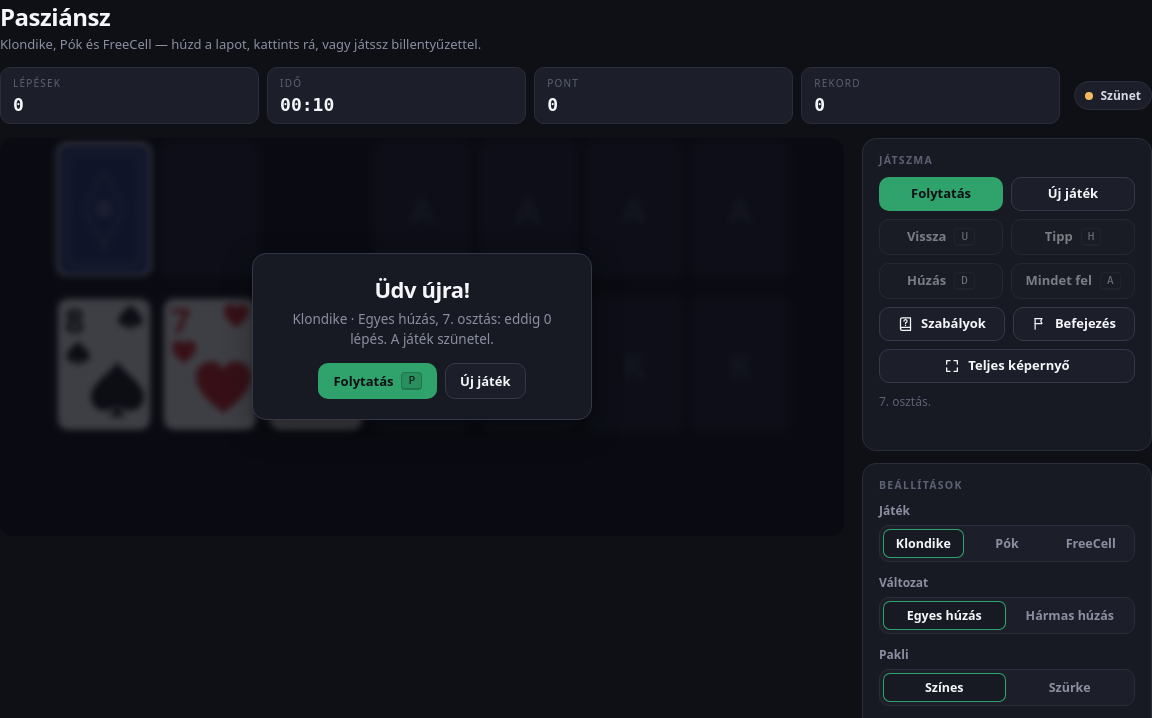
Test: Solitaire finish early › Cancel changes nothing, and the clock stands still while the confirm is open
The image size is (1152, 718).
Press p
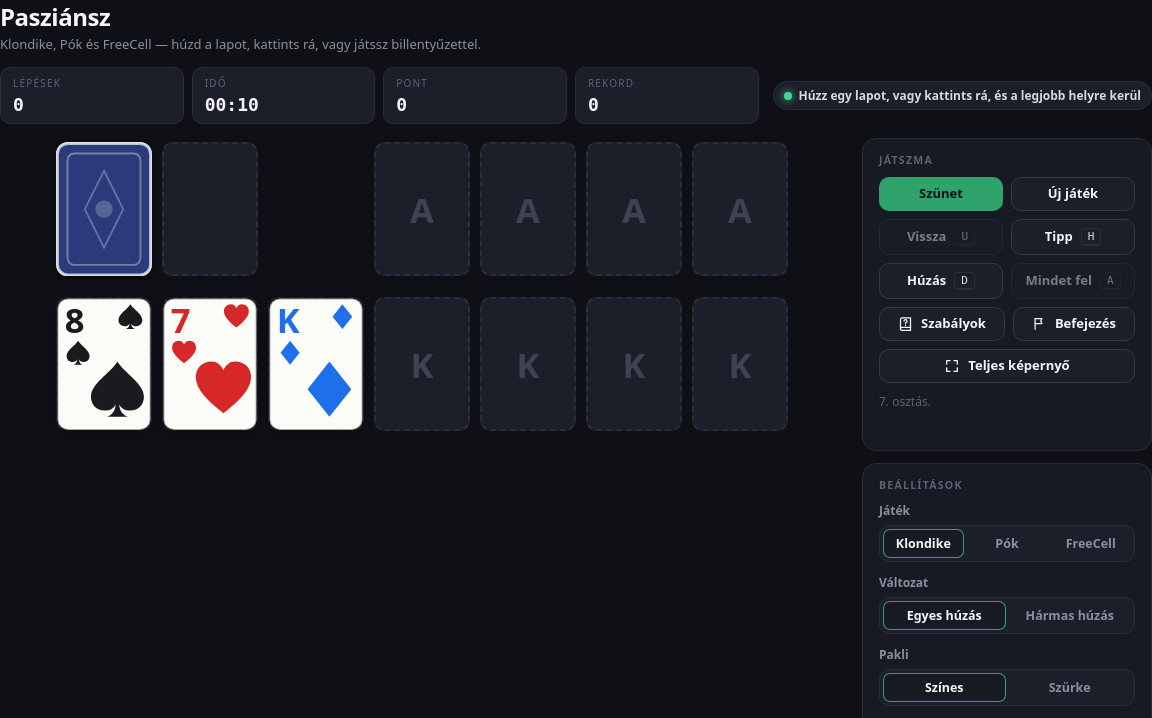
Check: the dialog is gone
Press the mouse on the element showing "7": (210, 364) [162,297,258,432]
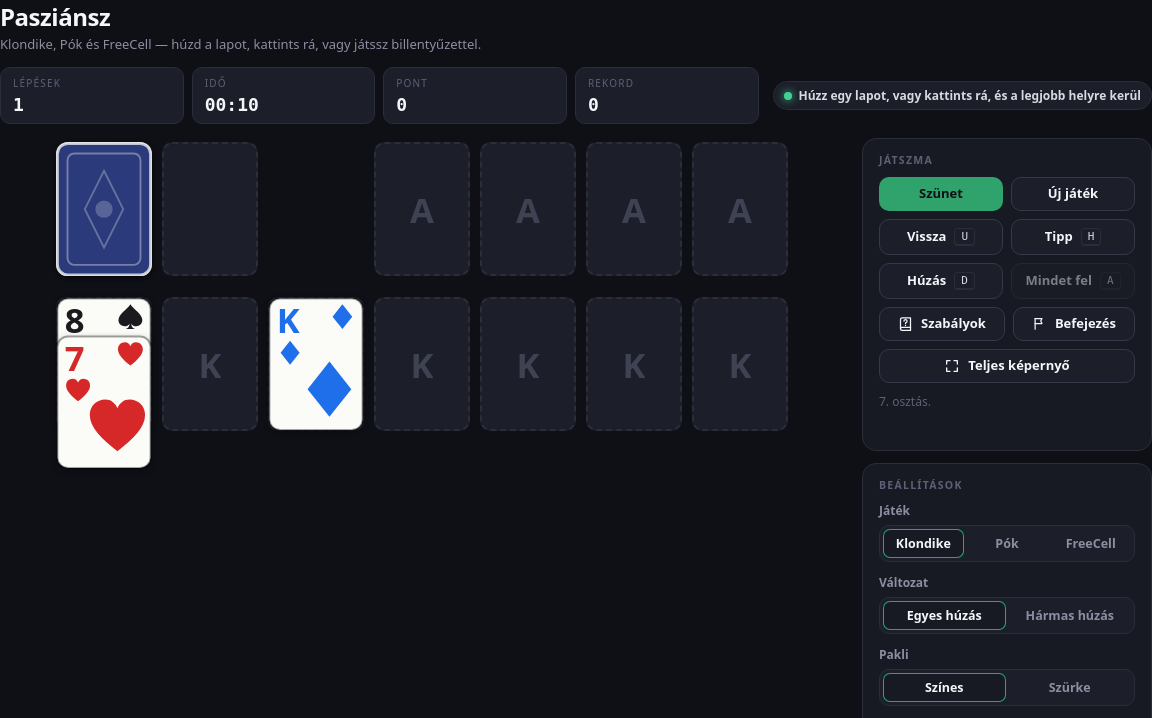
Click the button "Befejezés": (1074, 324) [1013,307,1135,341]
Wait 5000 ms
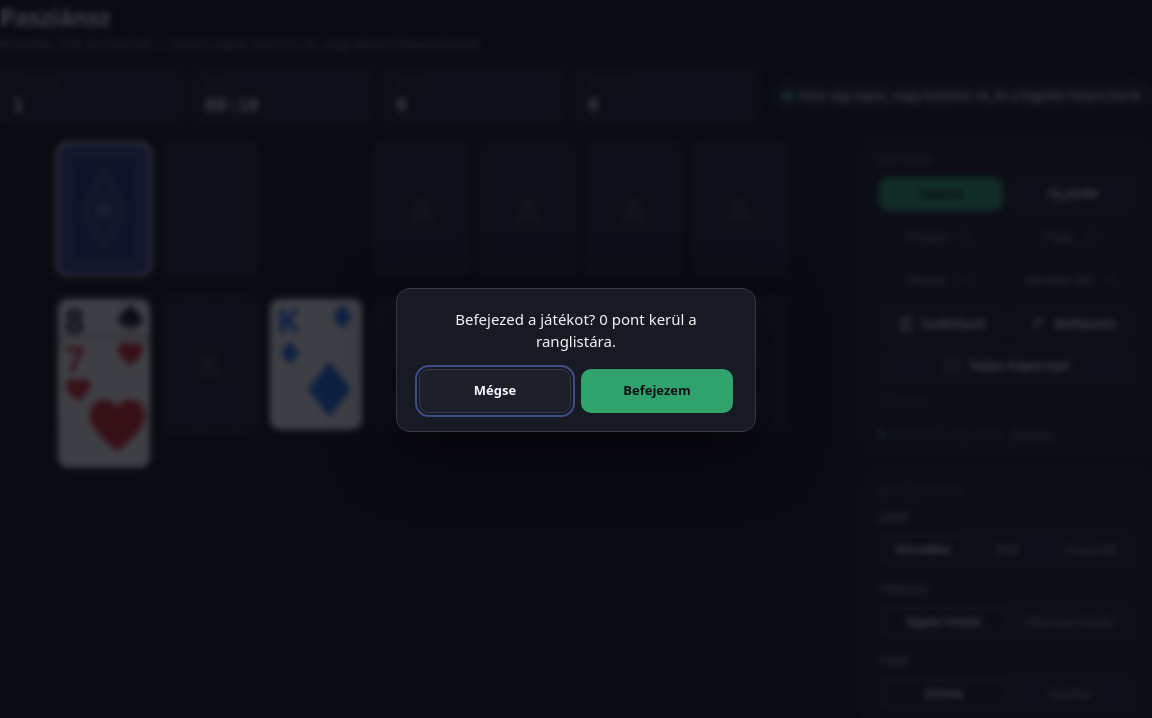
Click the button "Mégse": (495, 391) [419,369,571,413]
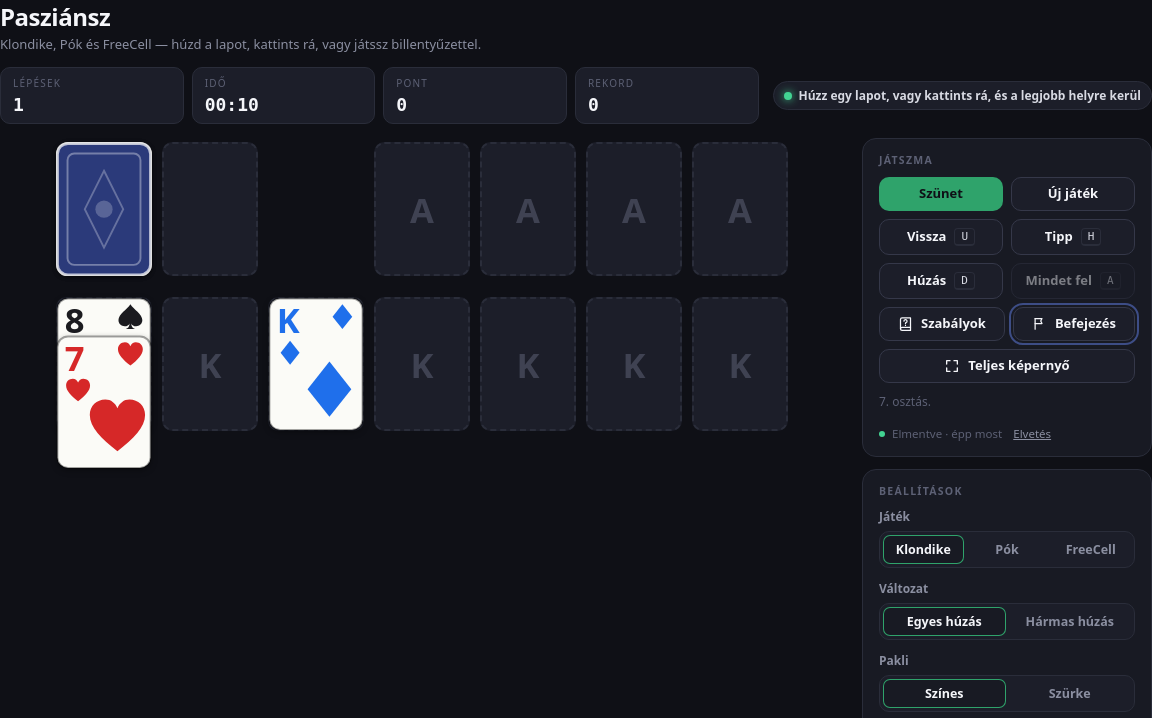
Check: the dialog is gone
